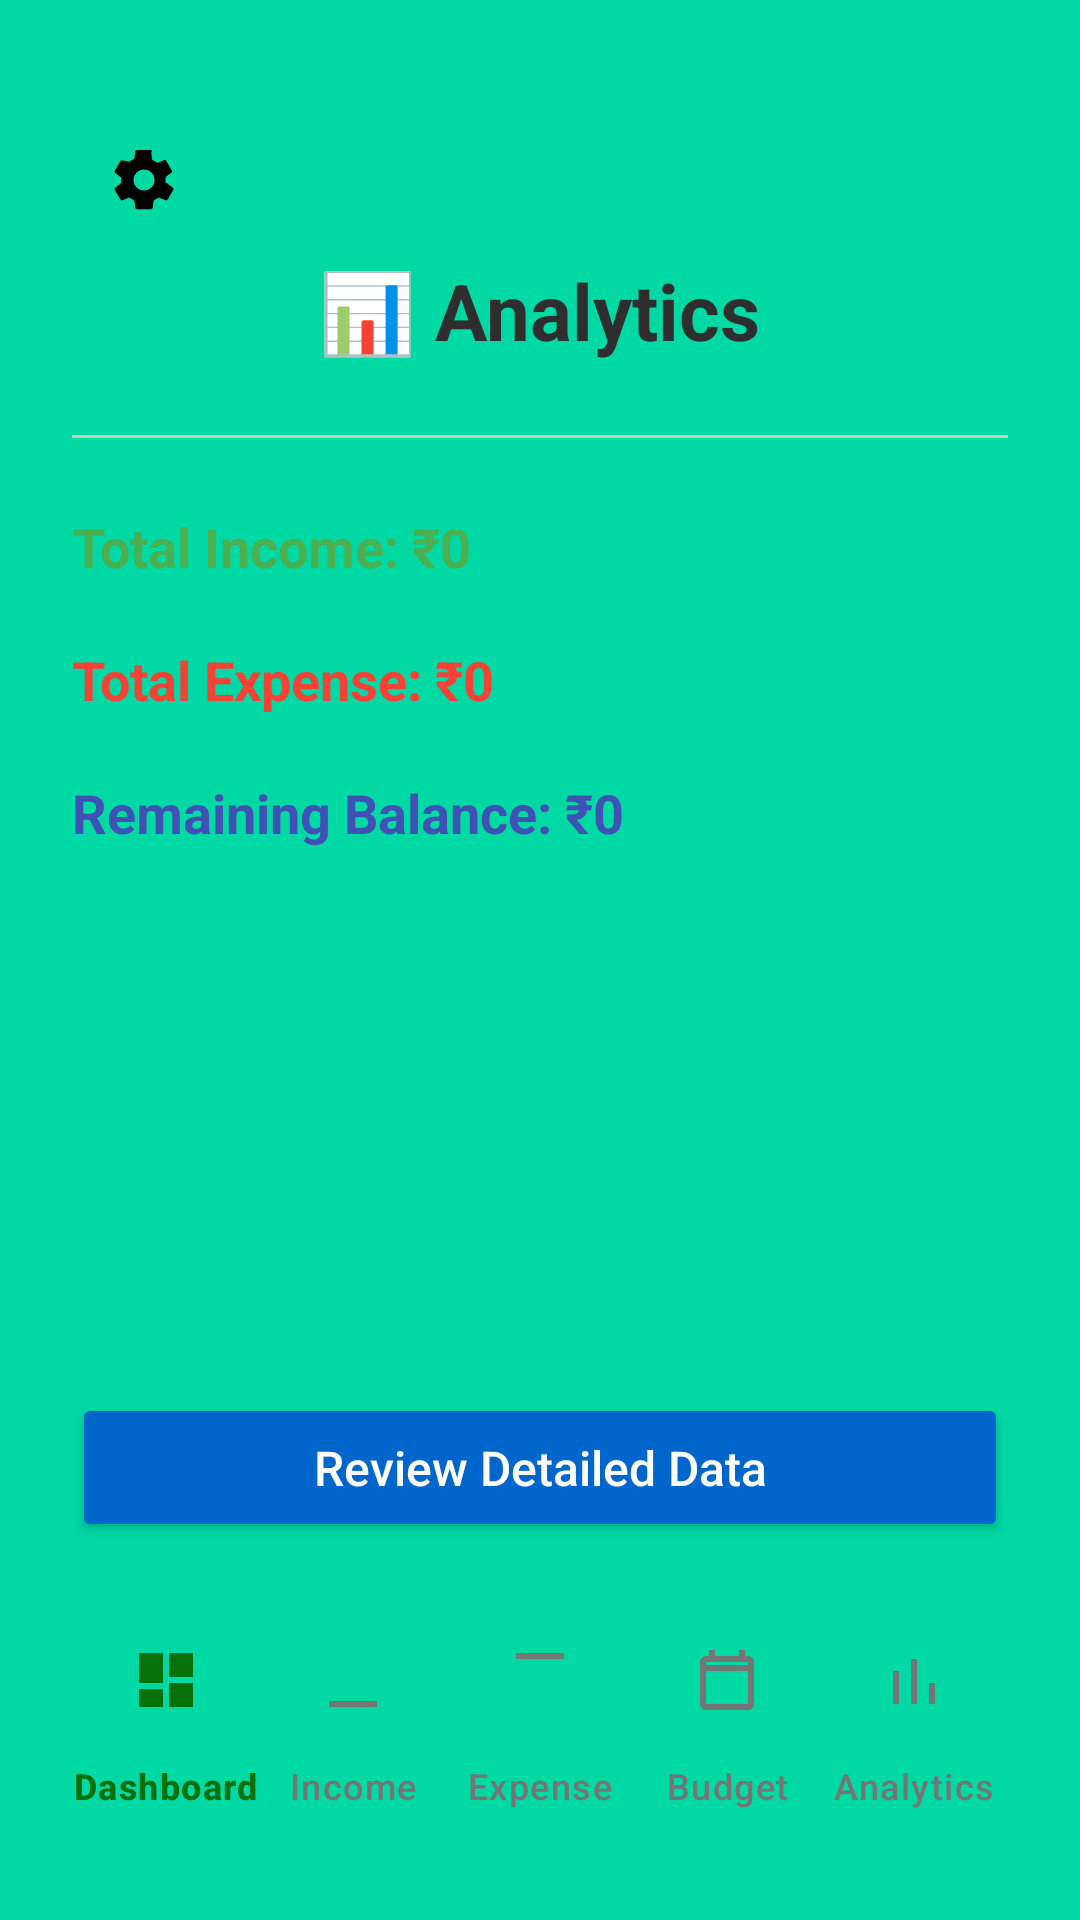

Where to tap for icons on this 1080 x 1920 app screen, as (x=x, y=y):
Setting: (x=144, y=180)
